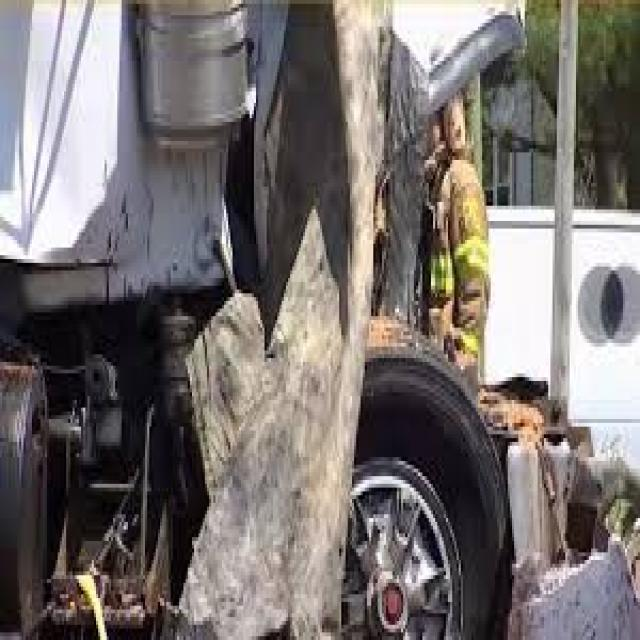accident: (208, 0, 633, 640)
